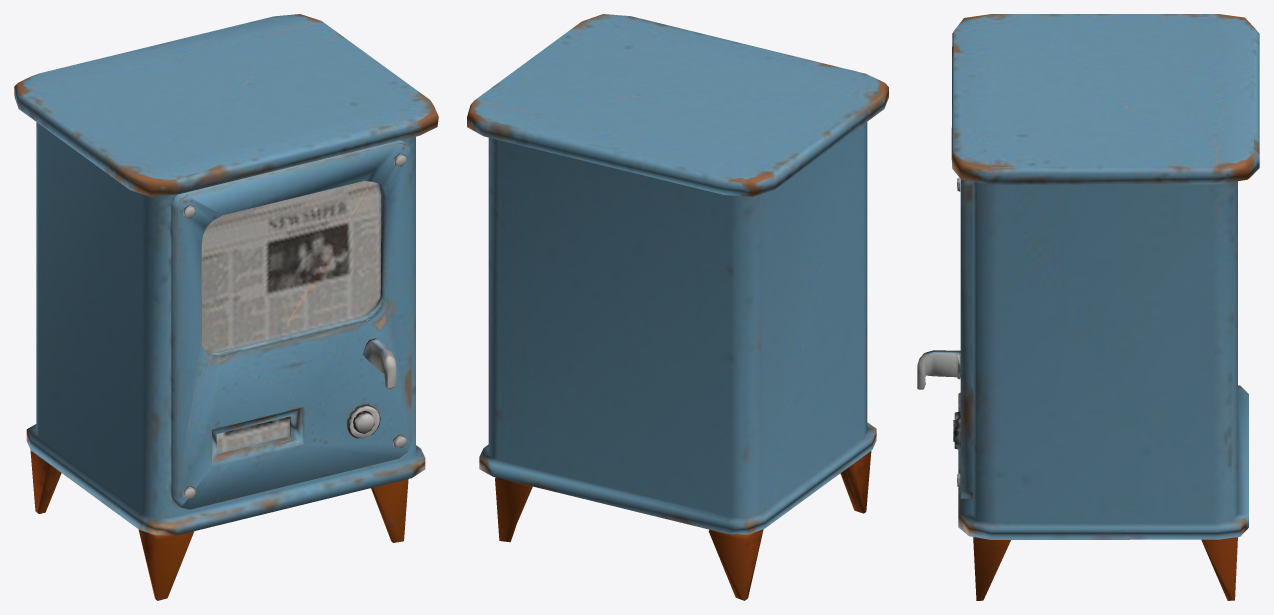
The model's file is newspaper_box.glb.
The picture shows the model from 3 angles, left to right: view 1: azimuth 30°, elevation 25°; view 2: azimuth 150°, elevation 25°; view 3: azimuth 270°, elevation 25°; orthographic projection. The views are drawn at different scales.
Bounding box in the file's own units: 0.8229 × 1.1 × 0.7574.
1 material, 1 textured.
